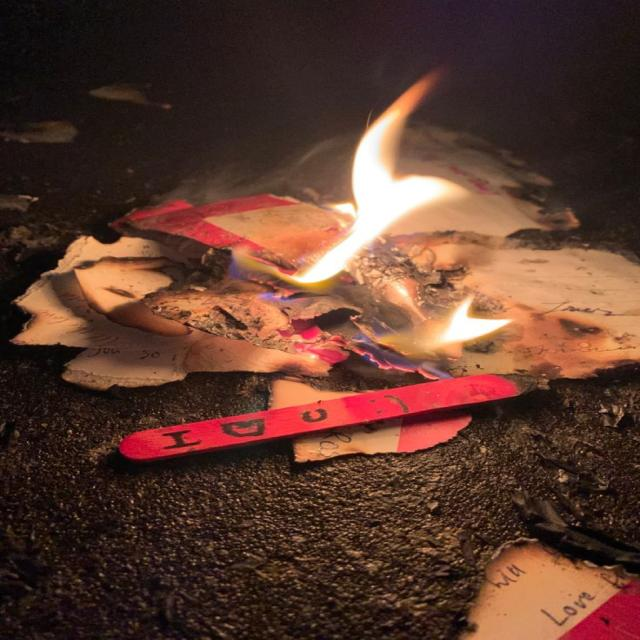fire: (288, 66, 470, 284), (433, 291, 512, 345)
